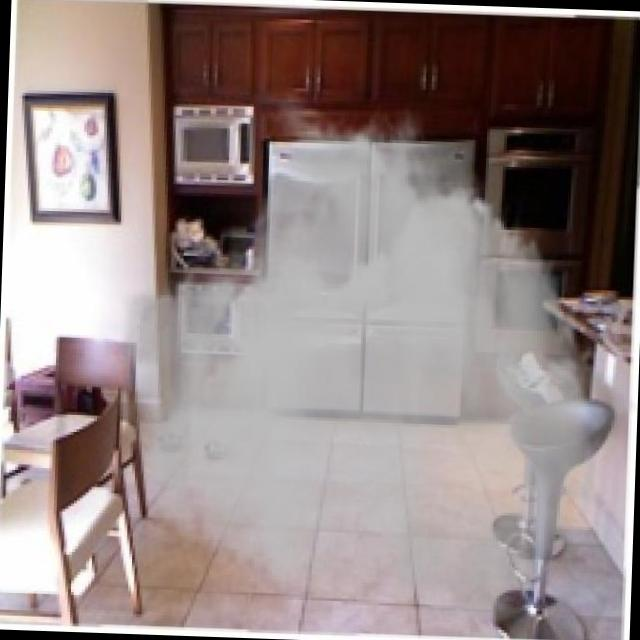Smoke: (103, 85, 640, 640)
